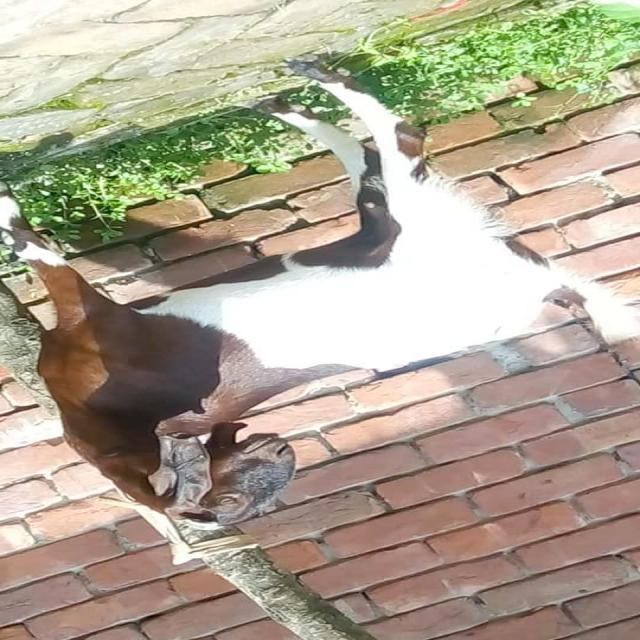Goat: (2, 54, 638, 531)
